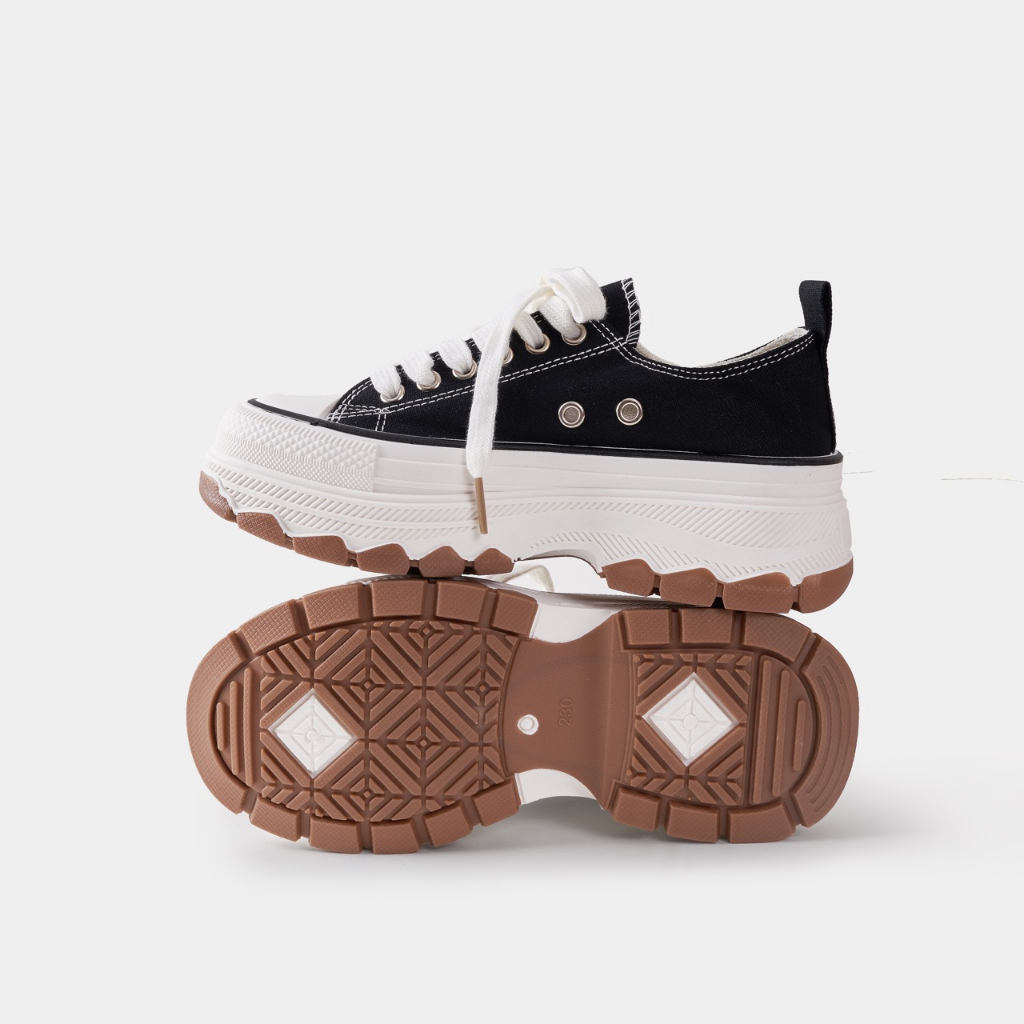sneakers: (193, 270, 857, 616), (182, 576, 863, 859)
